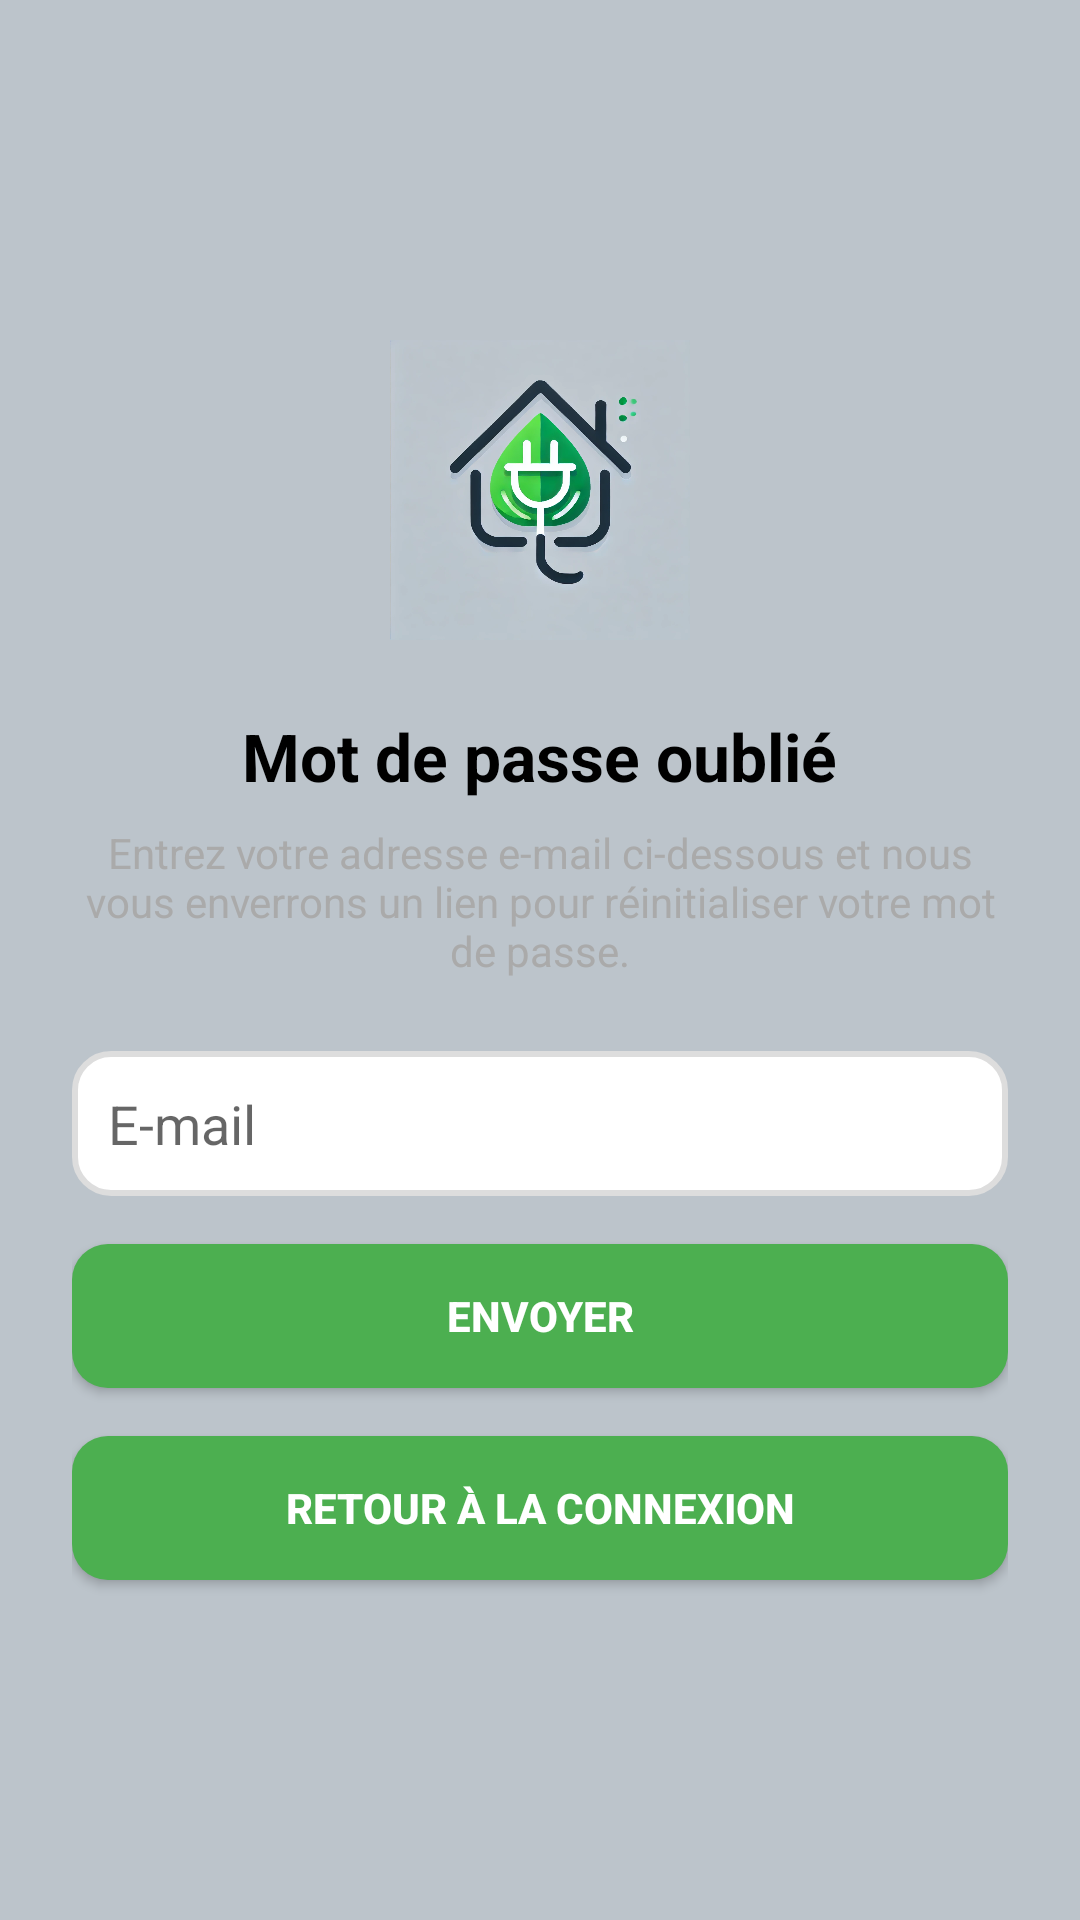

Named icons in this screenshot (1080 x 1920) and their bounding boxes, {"x1": x1, "y1": y1, "x2": x2, "y2": y2}:
energy: {"x1": 450, "y1": 380, "x2": 637, "y2": 584}
